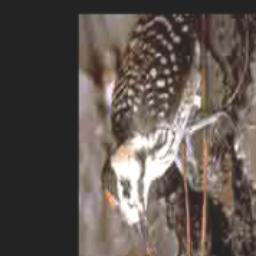Woodpecker: (102, 19, 227, 256)
